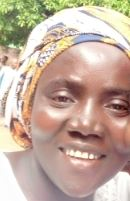without_facemask: (35, 112, 127, 194)
